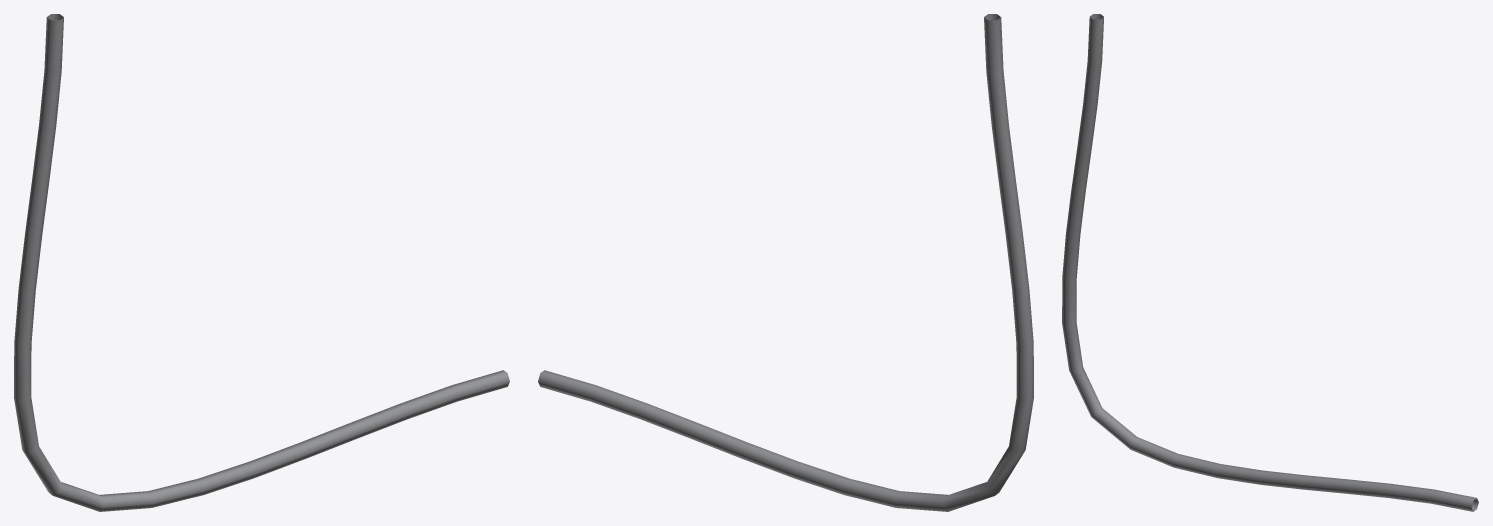
3 views of the same model, side by side, from view 1: azimuth 30°, elevation 25°; view 2: azimuth 150°, elevation 25°; view 3: azimuth 330°, elevation 25° (orthographic). The views are drawn at different scales.
Size of the model in its own units: 0.8454 by 0.8454 by 0.0259.
